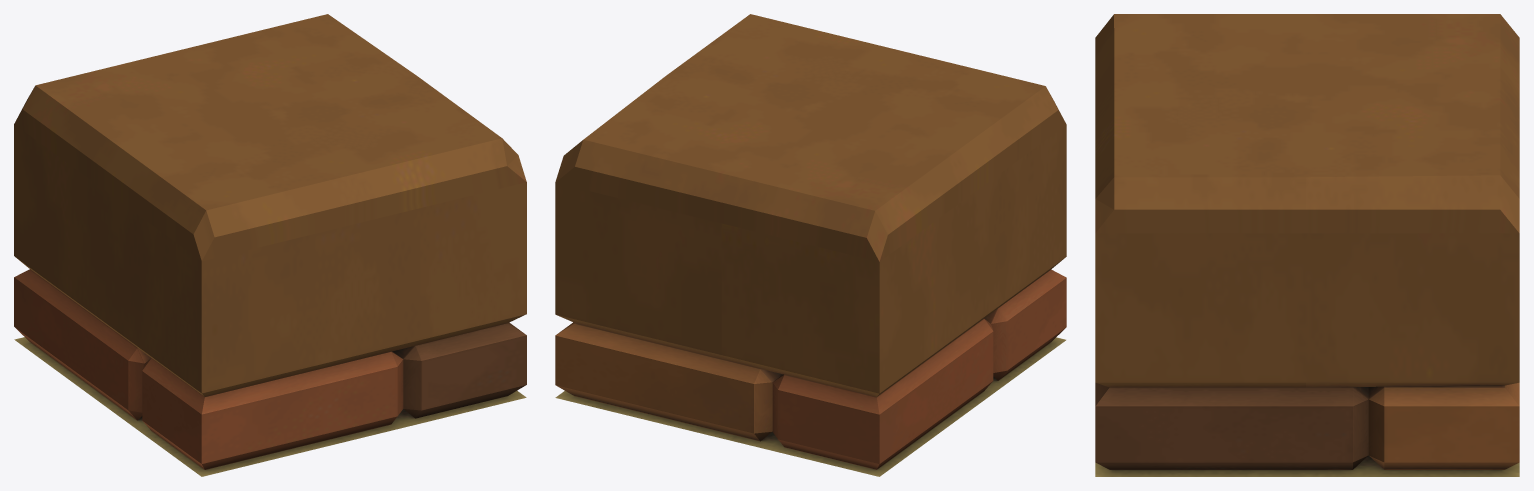
The model's file is 1-Mur.FBX.
3 renders of one model, left to right at view 1: azimuth 30°, elevation 25°; view 2: azimuth 150°, elevation 25°; view 3: azimuth 270°, elevation 25°, orthographic. The views are drawn at different scales.
Parts seen in each view (by area): view 1: 1-Mur; view 2: 1-Mur; view 3: 1-Mur.
Boxes of the visible parts, x1,y1,x2,y2 form: 1-Mur: [14, 14, 526, 476]; 1-Mur: [555, 14, 1066, 476]; 1-Mur: [1095, 14, 1519, 476].
Size of the model in its own units: 2 by 1.51 by 2.
